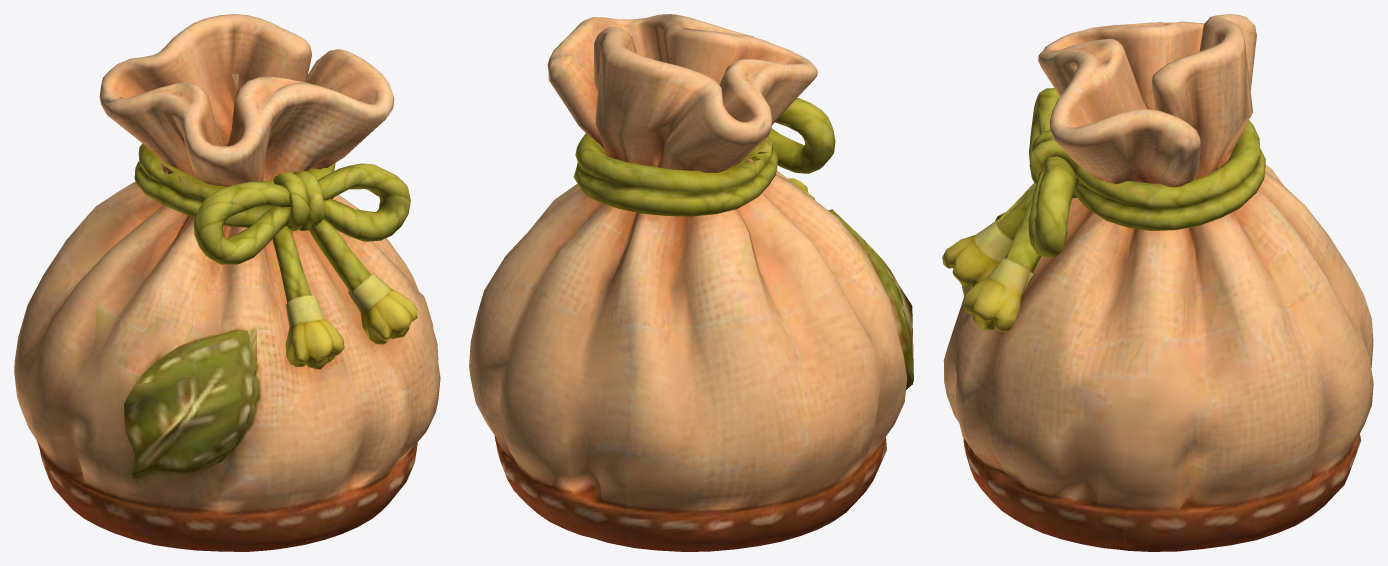
Rendered from material-pouch.web.glb.
3 views of the same model, side by side, from view 1: azimuth 30°, elevation 25°; view 2: azimuth 150°, elevation 25°; view 3: azimuth 270°, elevation 25° (orthographic). The views are drawn at different scales.
Visible parts, largest first — view 1: ItemBody; view 2: ItemBody; view 3: ItemBody.
Part boxes in pixels (x1=…): ItemBody: x1=14, y1=14, x2=440, y2=551; ItemBody: x1=469, y1=14, x2=913, y2=551; ItemBody: x1=942, y1=14, x2=1373, y2=551.
Size of the model in its own units: 0.2105 by 0.24 by 0.2042.
Materials: 1 (1 with a texture image).
